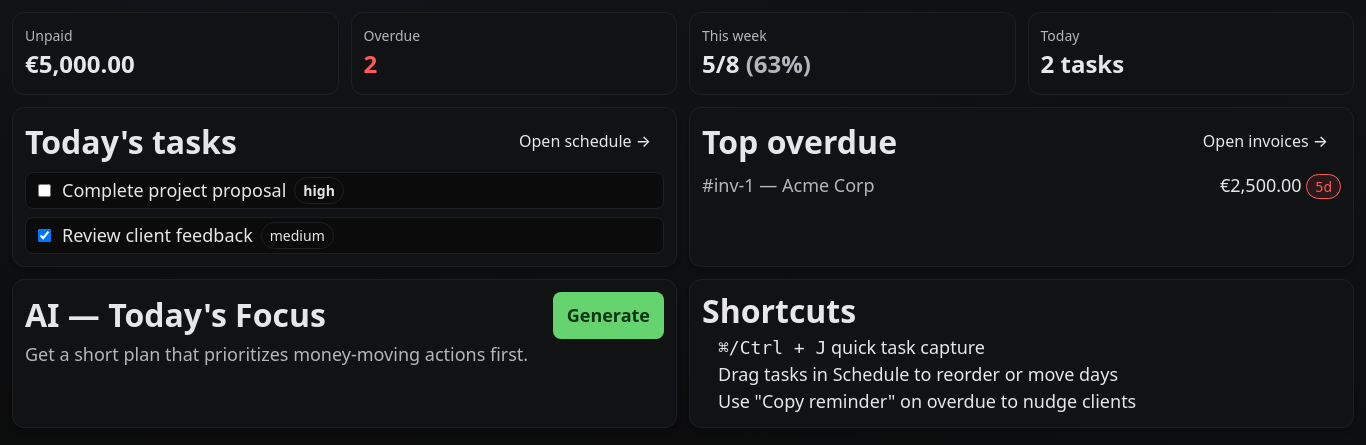
Test: FocusPage › shows loading state during AI generation
This screenshot has width=1366, height=445.
What coordinates should you click on to do the following:
click the button "Generate"
I would click on:
 (608, 316)
Its box is x1=553 y1=292 x2=664 y2=339.
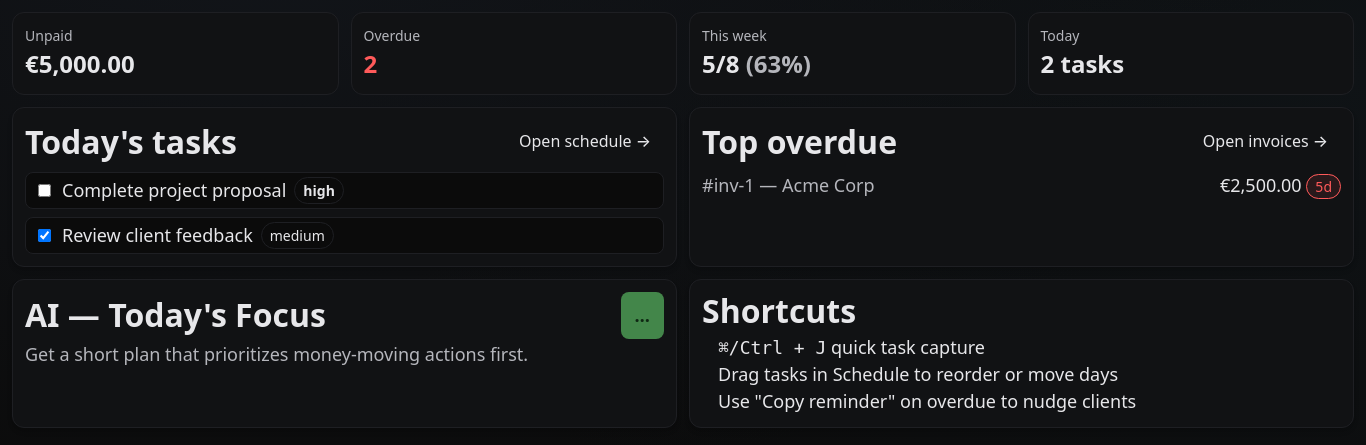
Expected: the button is disabled, x1=621 y1=292 x2=664 y2=339
